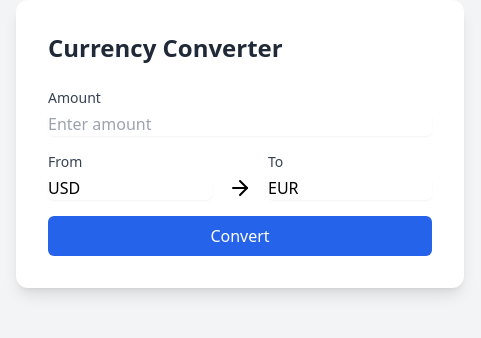
Test case: CurrencyConverter › validates invalid amount
The image size is (481, 338).
Type "-100" into the field with placeholder "Enter amount" at (240, 124), box [48, 112, 432, 136]
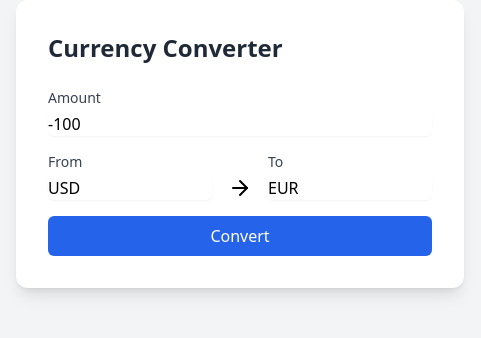
Click the button "Convert" at (240, 236), box [48, 216, 432, 256]
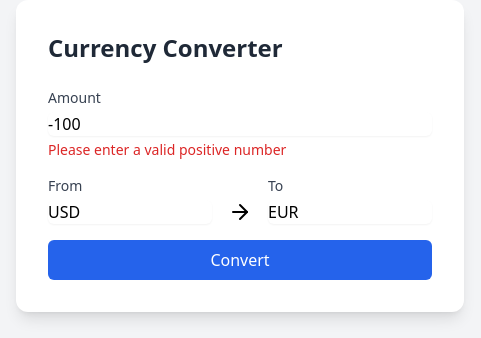
Expected: the text "Please enter a valid positive number" is shown, [48, 140, 286, 159]
